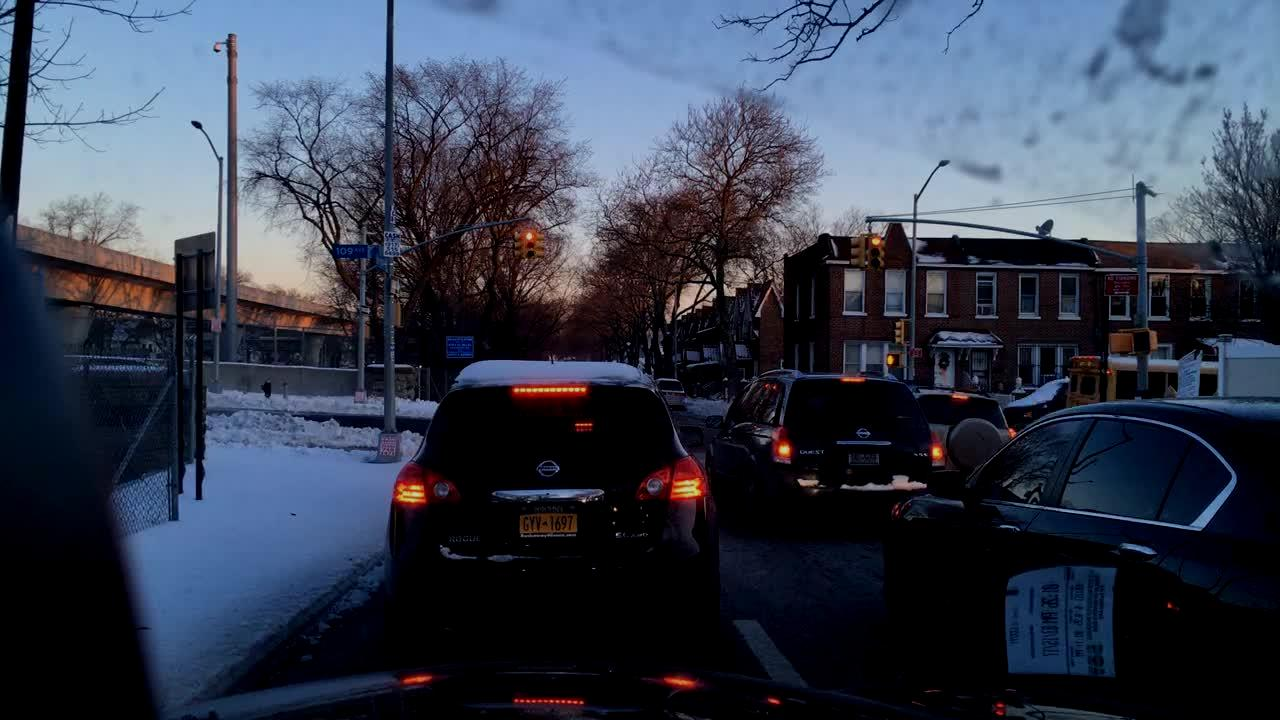Nissan: (529, 452, 567, 483), (852, 423, 876, 444)
